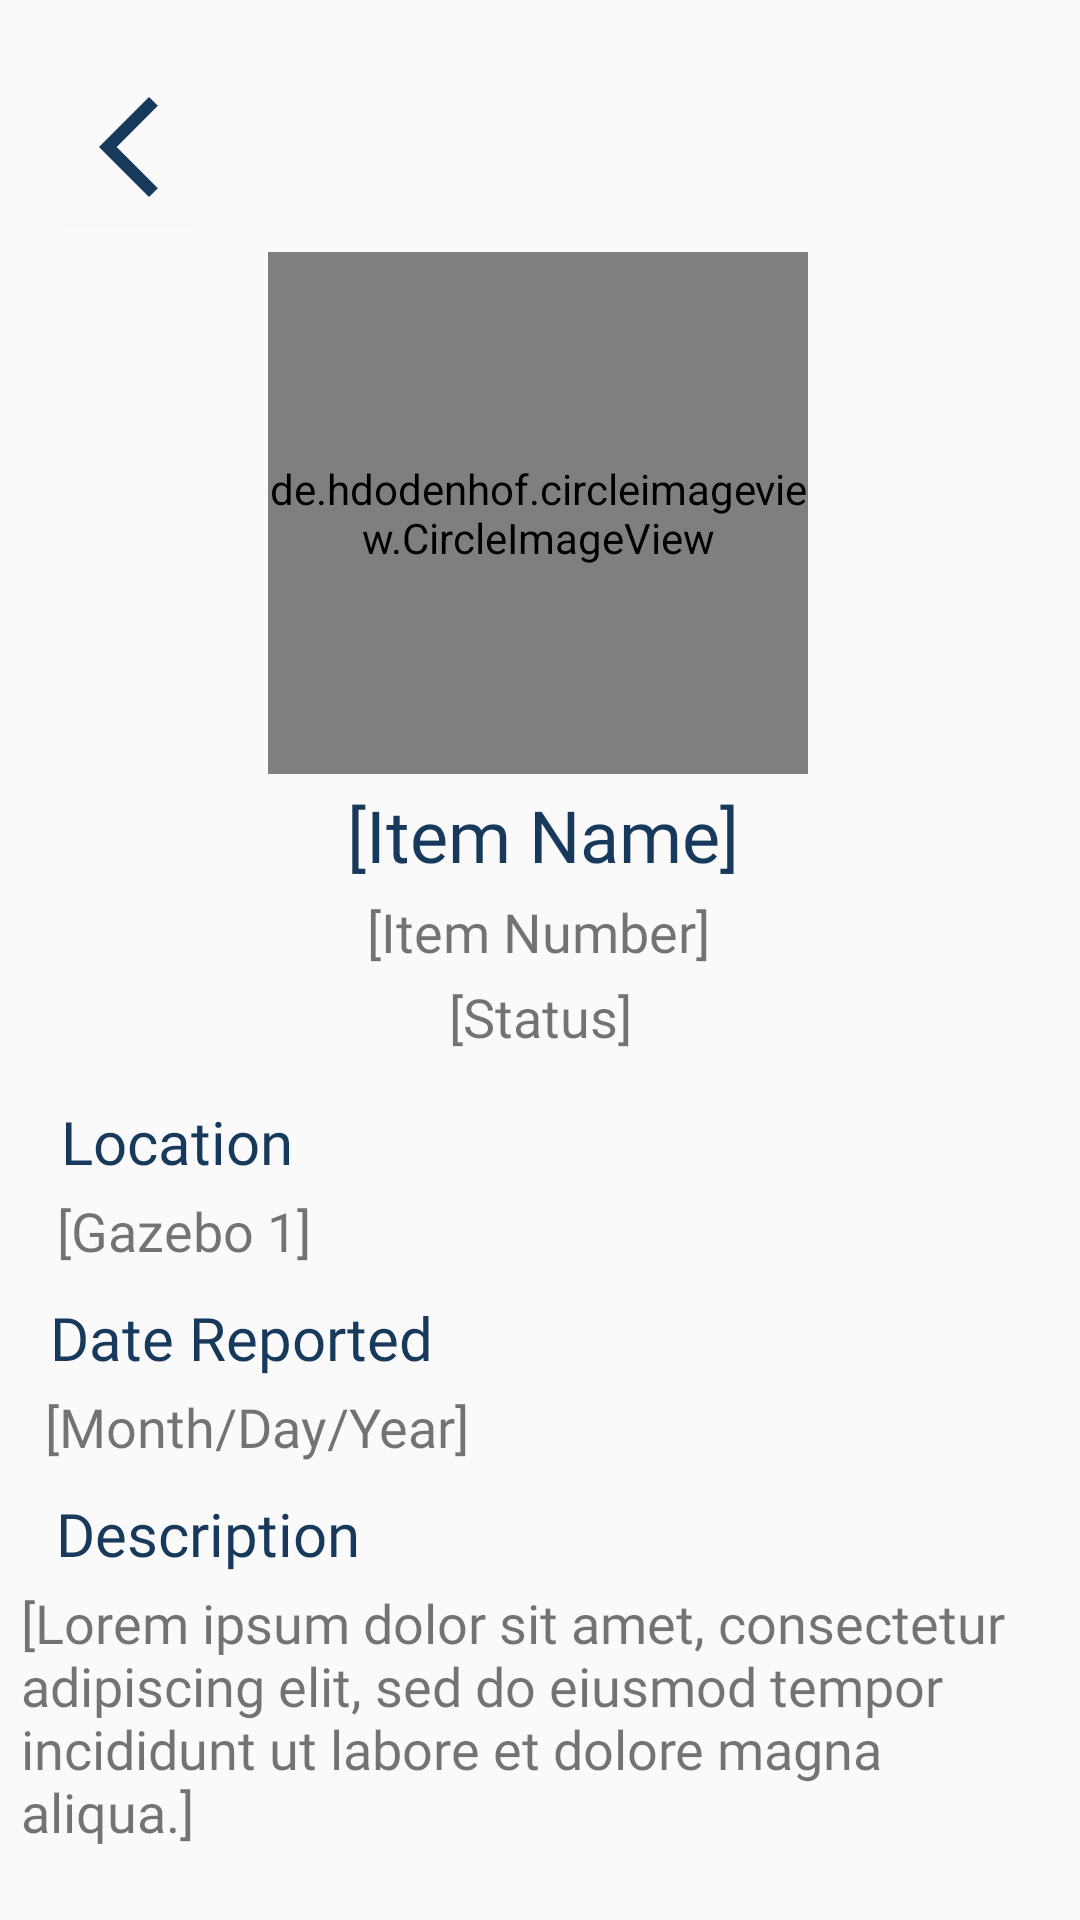

Locate icon controls on the screen. Image size 1080 × 1920, boxes as (x1, y1, x2, y2).
arrow back: (99, 97, 158, 197)
